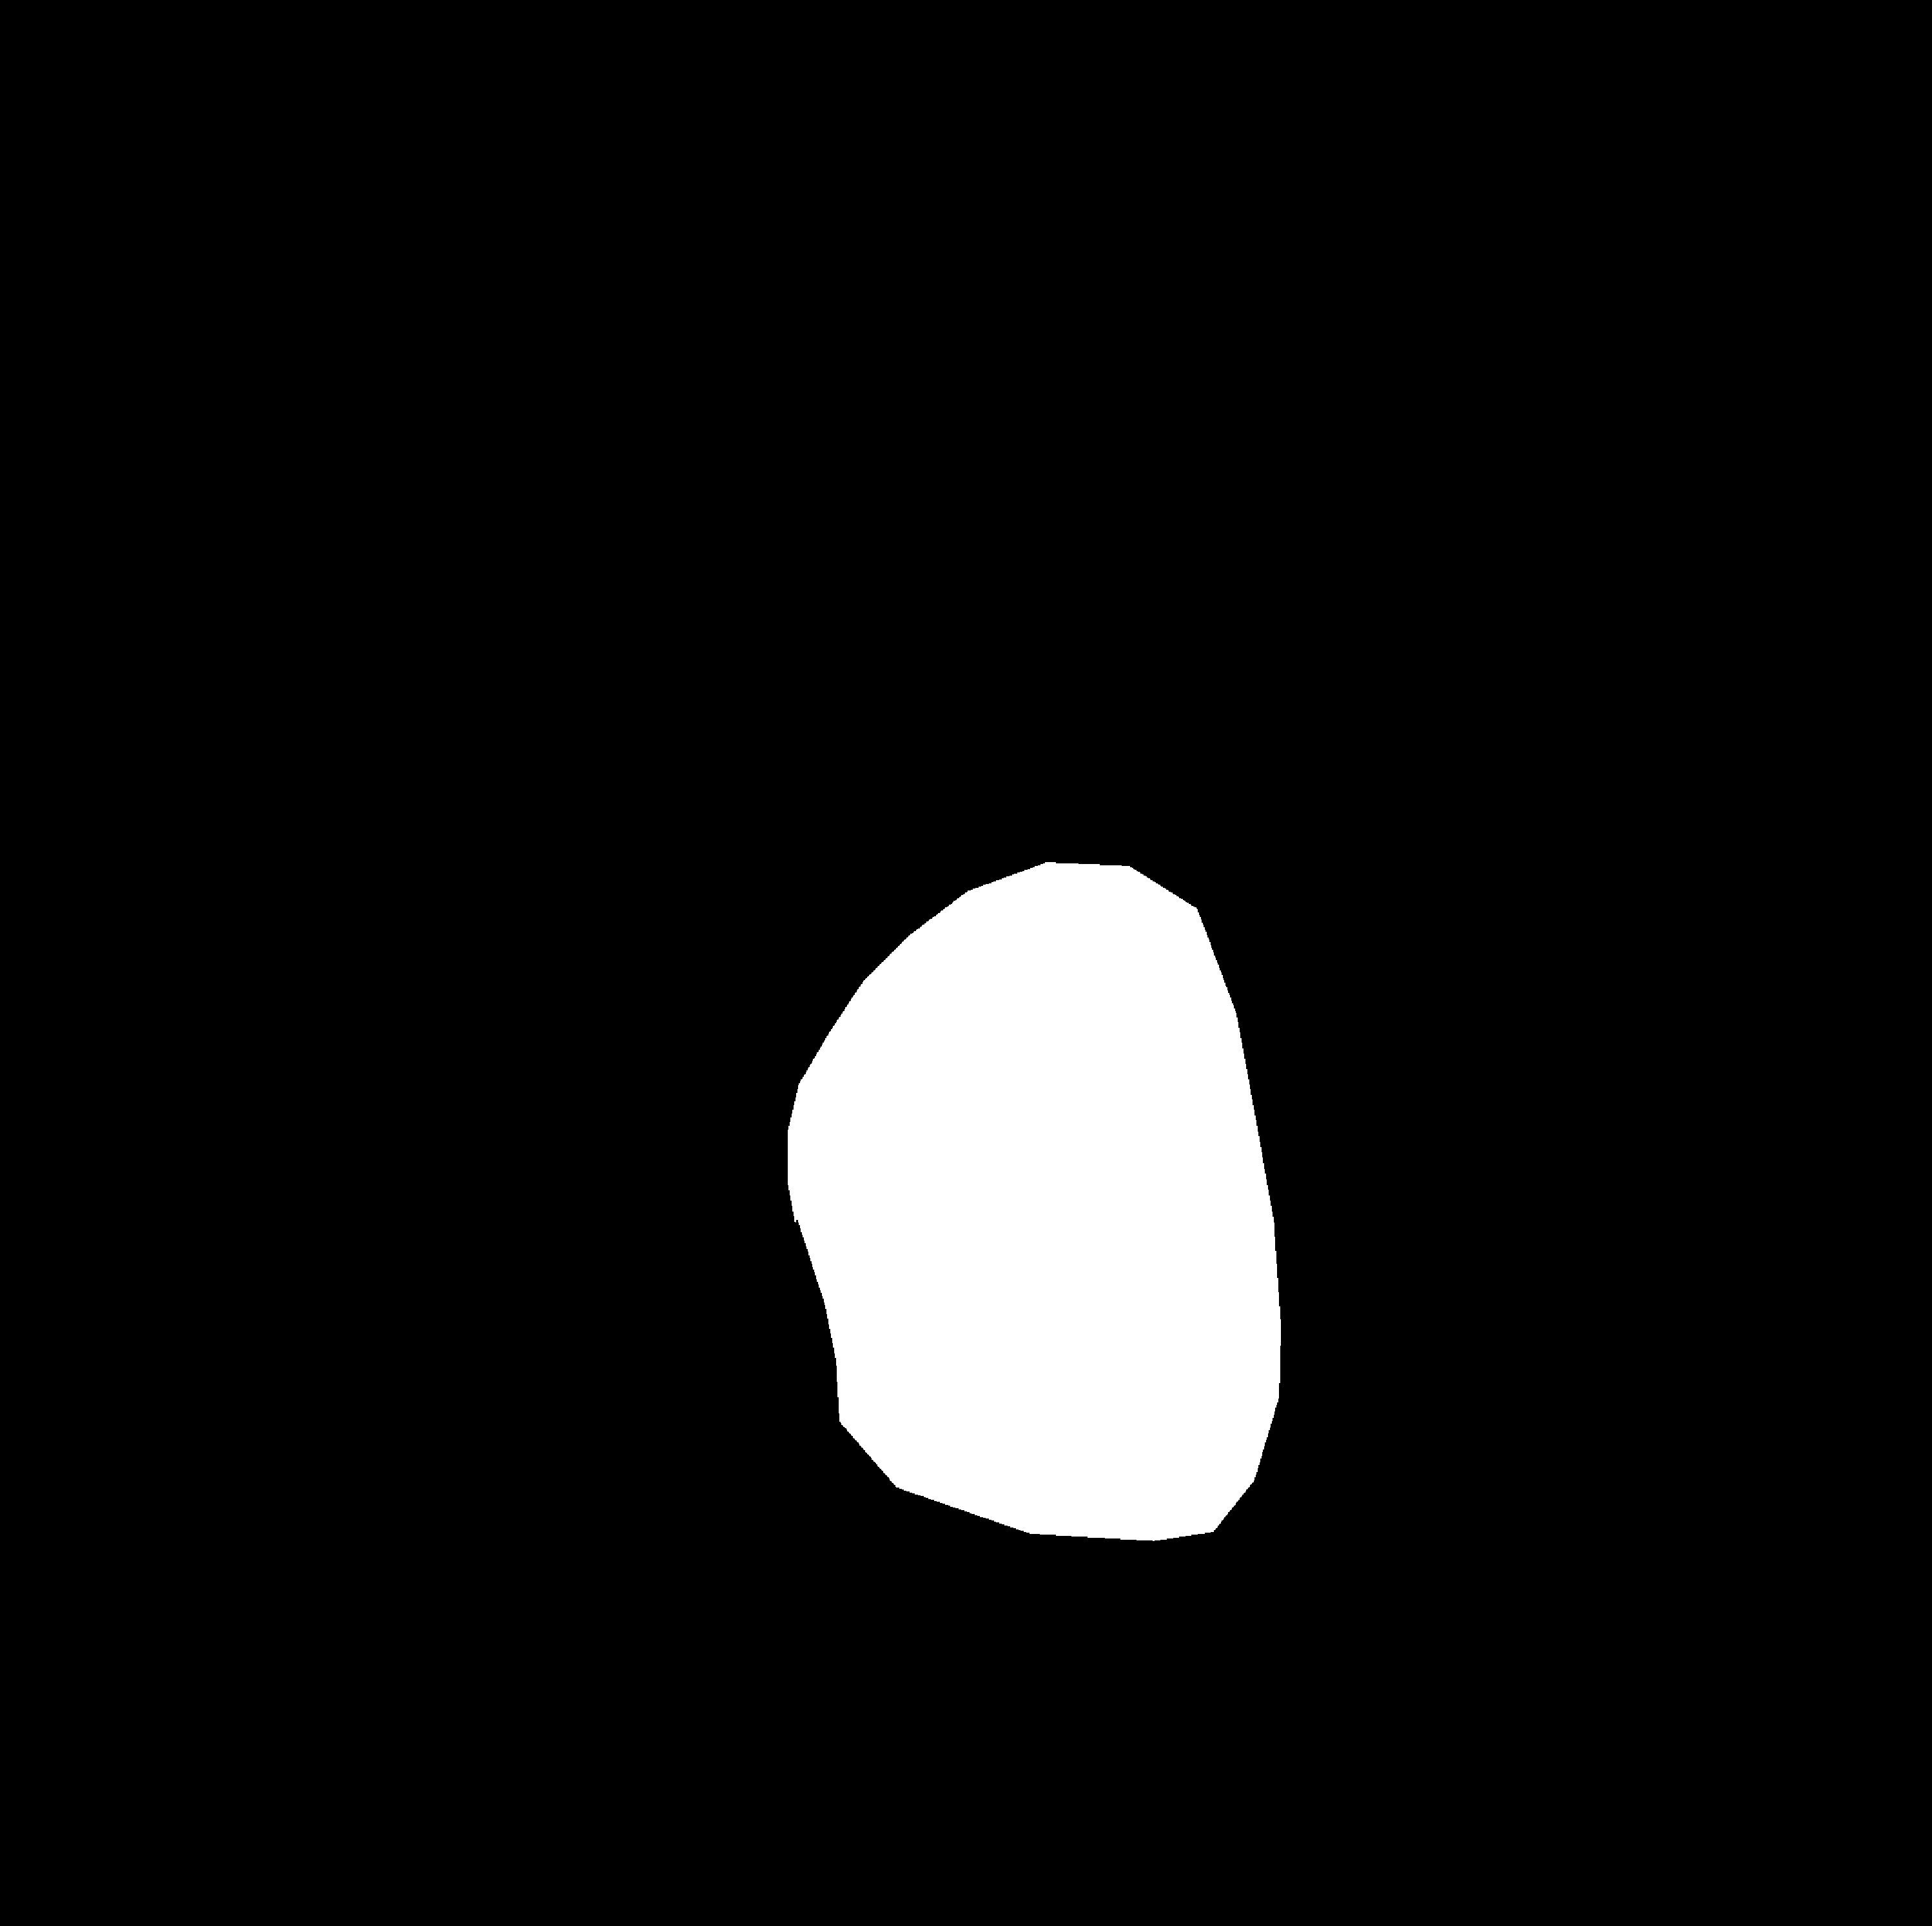heart: (786, 995, 1283, 1519)
left_lung: (317, 245, 917, 1771)
right_lung: (1058, 247, 1613, 1847)
